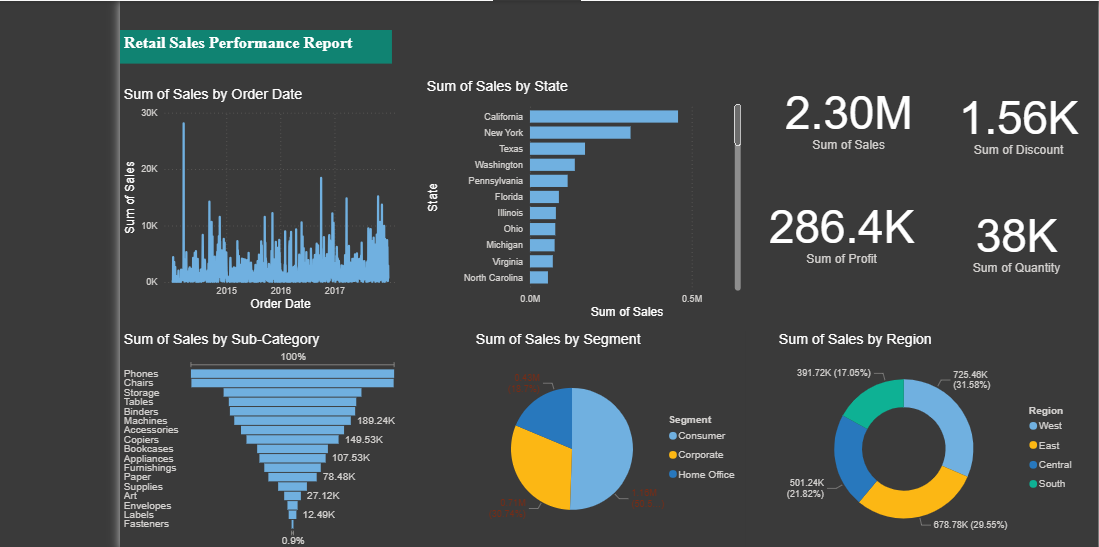

What the dashboard file says about the page in this screenshot:
{"tool":"powerbi","page":{"name":"Retail Sales Performance","canvas":[1280,720],"ordinal":0},"visuals":[{"type":"donutChart","fields":{"Category":["Retail Sales Perfomance.Region"],"Y":["Sum(Retail Sales Perfomance.Sales)"]},"box":[857.5,432.2,403.3,287.7],"z":0},{"type":"funnel","fields":{"Category":["Retail Sales Perfomance.Sub-Category"],"Y":["Sum(Retail Sales Perfomance.Sales)"]},"box":[0,432.2,368.9,287.7],"z":1000},{"type":"pieChart","fields":{"Category":["Retail Sales Perfomance.Segment"],"Y":["Sum(Retail Sales Perfomance.Sales)"]},"box":[461.1,432.2,357.8,287.7],"z":2000},{"type":"lineChart","fields":{"Category":["Retail Sales Perfomance.Order Date"],"Y":["Sum(Retail Sales Perfomance.Sales)"]},"box":[0,111.5,370.2,298.7],"z":3000},{"type":"card","fields":{"Values":["Sum(Retail Sales Perfomance.Sales)"]},"box":[843.3,75.6,221.7,149.5],"z":4000},{"type":"card","fields":{"Values":["Sum(Retail Sales Perfomance.Profit)"]},"box":[831.5,225.1,226.8,149.5],"z":5000},{"type":"card","fields":{"Values":["Sum(Retail Sales Perfomance.Quantity)"]},"box":[1066.7,236.9,213.3,149.5],"z":6000},{"type":"card","fields":{"Values":["Sum(Retail Sales Perfomance.Discount)"]},"box":[1071.7,82.3,208.3,149.5],"z":7000},{"type":"clusteredBarChart","fields":{"Category":["Retail Sales Perfomance.State"],"Y":["Sum(Retail Sales Perfomance.Sales)"]},"box":[396.4,100.5,421.2,319.3],"z":8000},{"type":"textbox","box":[0,38.5,356.5,44],"z":10000}]}

Visuals, with their boxes on the page's 1280x720 design canvas (x1, y1, x2, y2). These are canvas units, not pixel positions in the 1099x547 screenshot, which may show the page scaled, cropped or inside an application window:
donutChart - Retail Sales Perfomance.Region x Sum(Retail Sales Perfomance.Sales): (858, 432, 1261, 720)
funnel - Retail Sales Perfomance.Sub-Category x Sum(Retail Sales Perfomance.Sales): (0, 432, 369, 720)
pieChart - Retail Sales Perfomance.Segment x Sum(Retail Sales Perfomance.Sales): (461, 432, 819, 720)
lineChart - Retail Sales Perfomance.Order Date x Sum(Retail Sales Perfomance.Sales): (0, 112, 370, 410)
card - Sum(Retail Sales Perfomance.Sales): (843, 76, 1065, 225)
card - Sum(Retail Sales Perfomance.Profit): (832, 225, 1058, 375)
card - Sum(Retail Sales Perfomance.Quantity): (1067, 237, 1280, 386)
card - Sum(Retail Sales Perfomance.Discount): (1072, 82, 1280, 232)
clusteredBarChart - Retail Sales Perfomance.State x Sum(Retail Sales Perfomance.Sales): (396, 100, 818, 420)
textbox: (0, 38, 356, 82)
